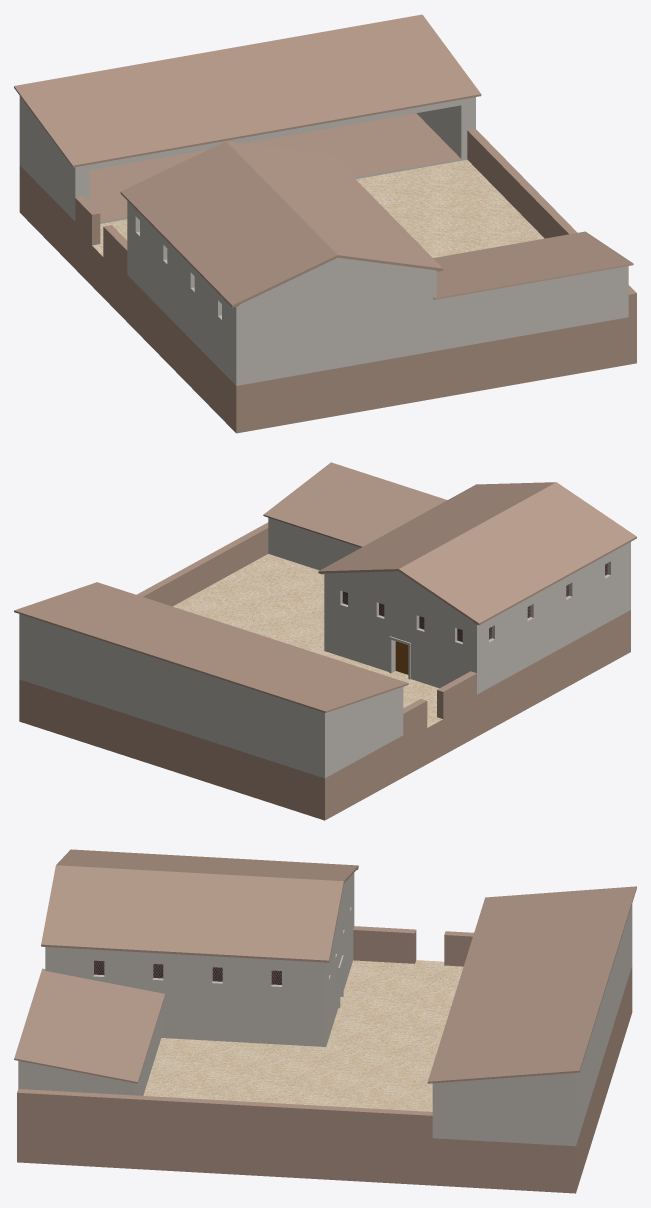
Rendered from mint.fbx.
3 renders of one model, top to bottom at view 1: azimuth 30°, elevation 25°; view 2: azimuth 150°, elevation 25°; view 3: azimuth 270°, elevation 25°, orthographic. The views are drawn at different scales.
Visible parts, largest first — view 1: Model; view 2: Model; view 3: Model.
Boxes of the visible parts, left/top/right/bottom form: Model: left=14, top=14, right=636, bottom=433; Model: left=14, top=462, right=636, bottom=820; Model: left=14, top=849, right=636, bottom=1193.
Bounding box in the file's own units: 25465 × 8852 × 30965.
